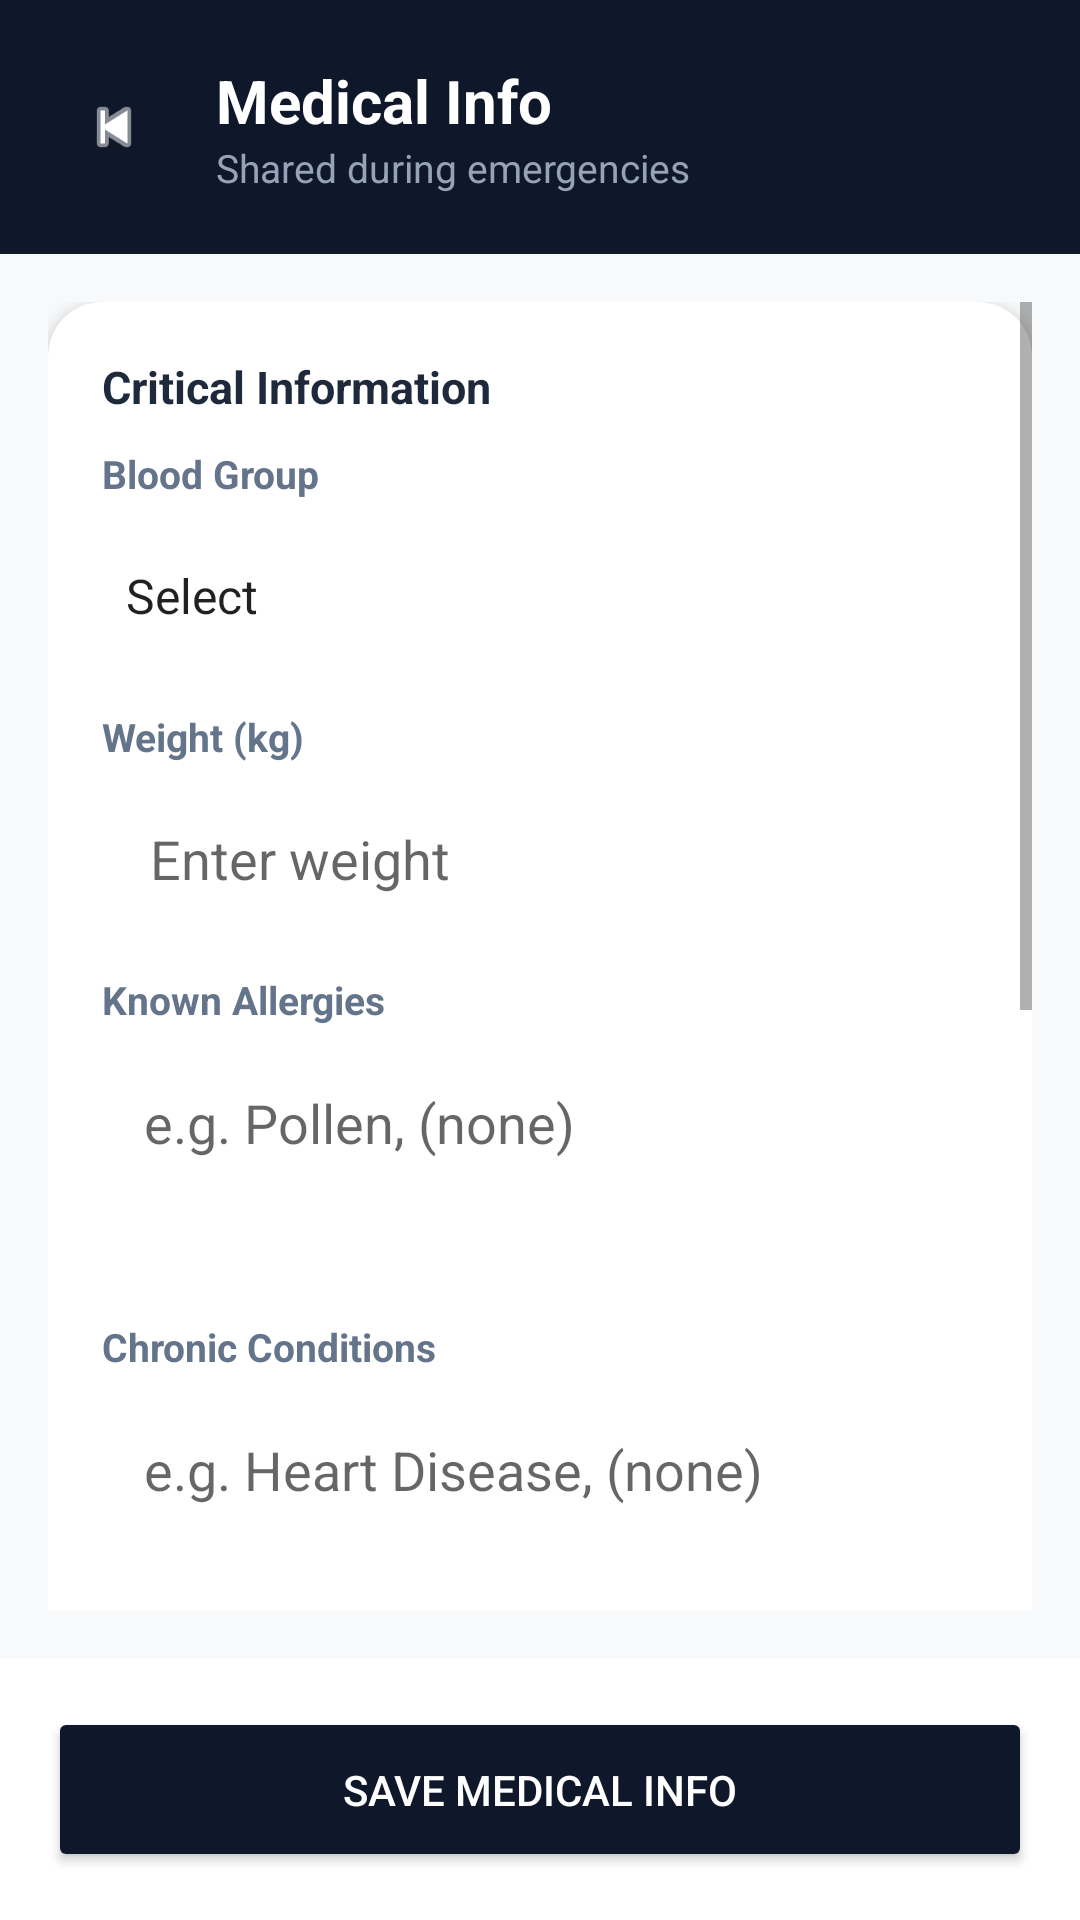

Named icons in this screenshot (1080×1920) and their bounding boxes, region(x1, y1, x2, y2):
previous: region(97, 107, 131, 147)
